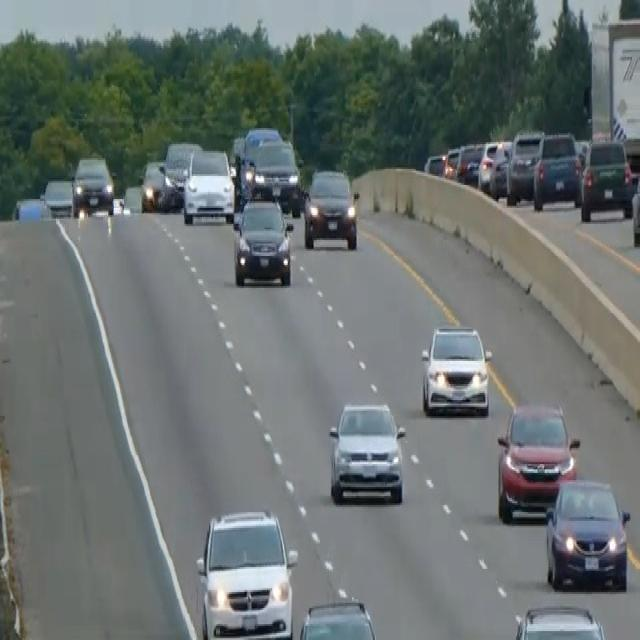car: (496, 398, 579, 523), (544, 476, 630, 590), (327, 398, 406, 505), (420, 322, 492, 418), (232, 196, 293, 286), (303, 165, 359, 249), (580, 137, 633, 220), (182, 146, 234, 224), (532, 130, 582, 210), (251, 139, 301, 213), (512, 603, 608, 638), (297, 598, 378, 638), (506, 128, 544, 204), (71, 153, 114, 217), (139, 158, 178, 212), (477, 138, 512, 196), (164, 139, 201, 190), (41, 176, 73, 217), (456, 140, 483, 185), (13, 194, 51, 220), (120, 183, 143, 213), (631, 164, 639, 247), (443, 144, 461, 180), (423, 151, 446, 178)
lorry: (588, 16, 639, 180), (242, 125, 280, 167)
minivan: (194, 507, 298, 638)
